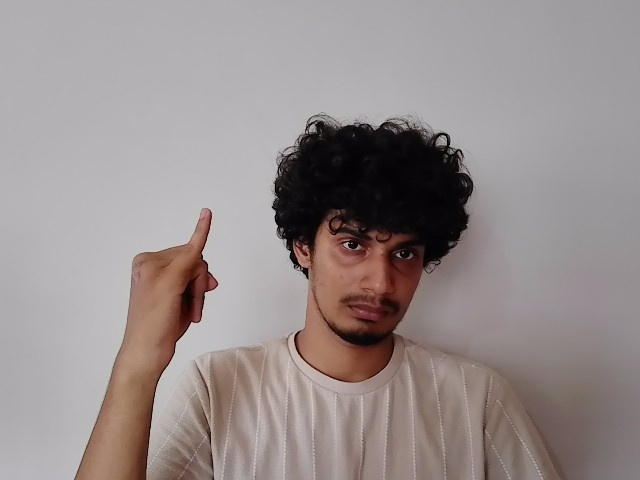bad: (129, 208, 220, 332)
